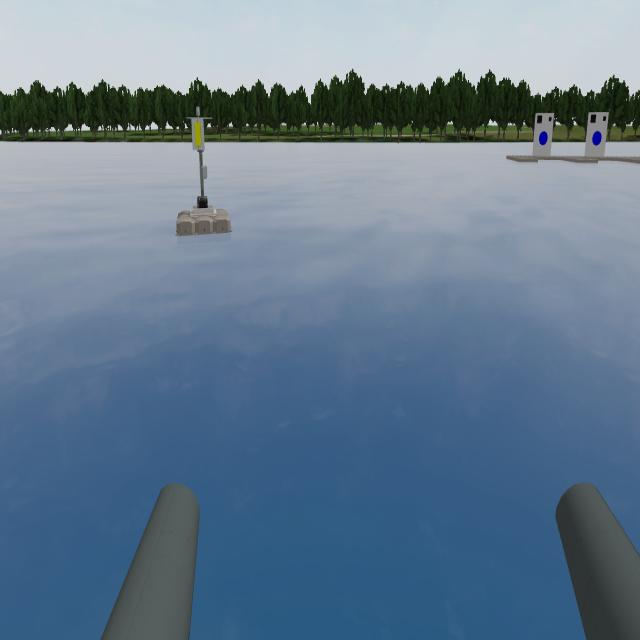yellow_pole: (183, 107, 211, 156)
